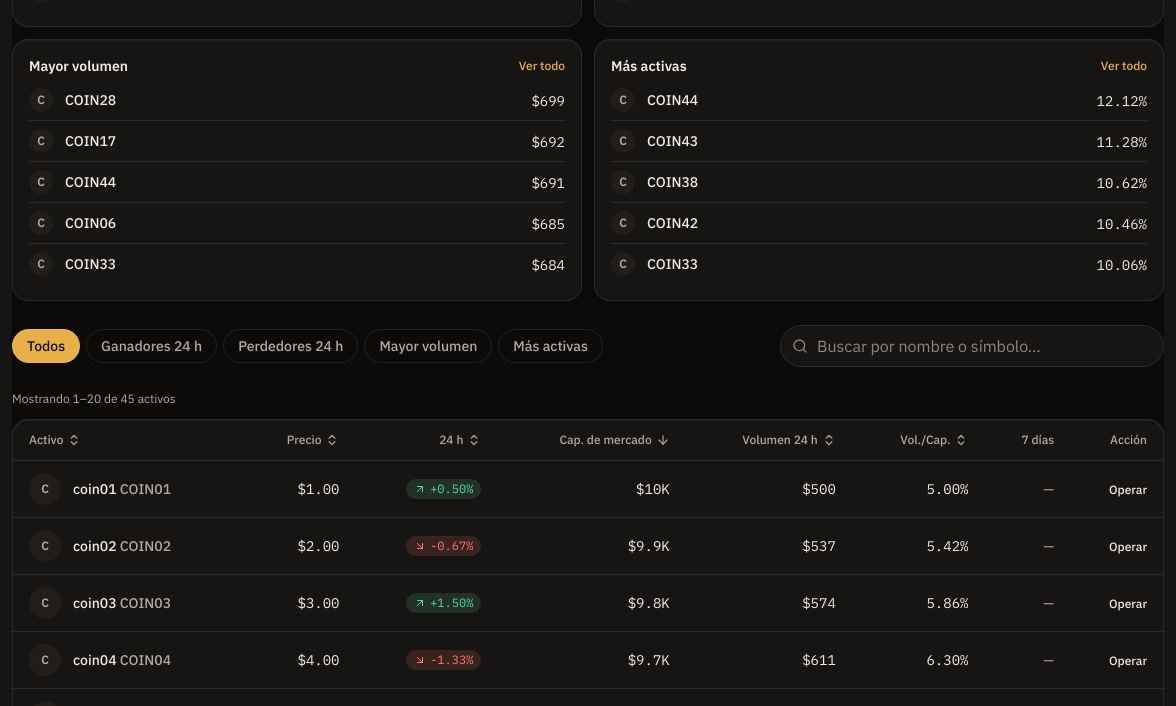
MarketExplorer: views › switching views filters, applies its sort, and marks the current view
(page scrolled)
Click the link "Ganadores 24 h": (152,346) [86,329,217,363]
(page scrolled)
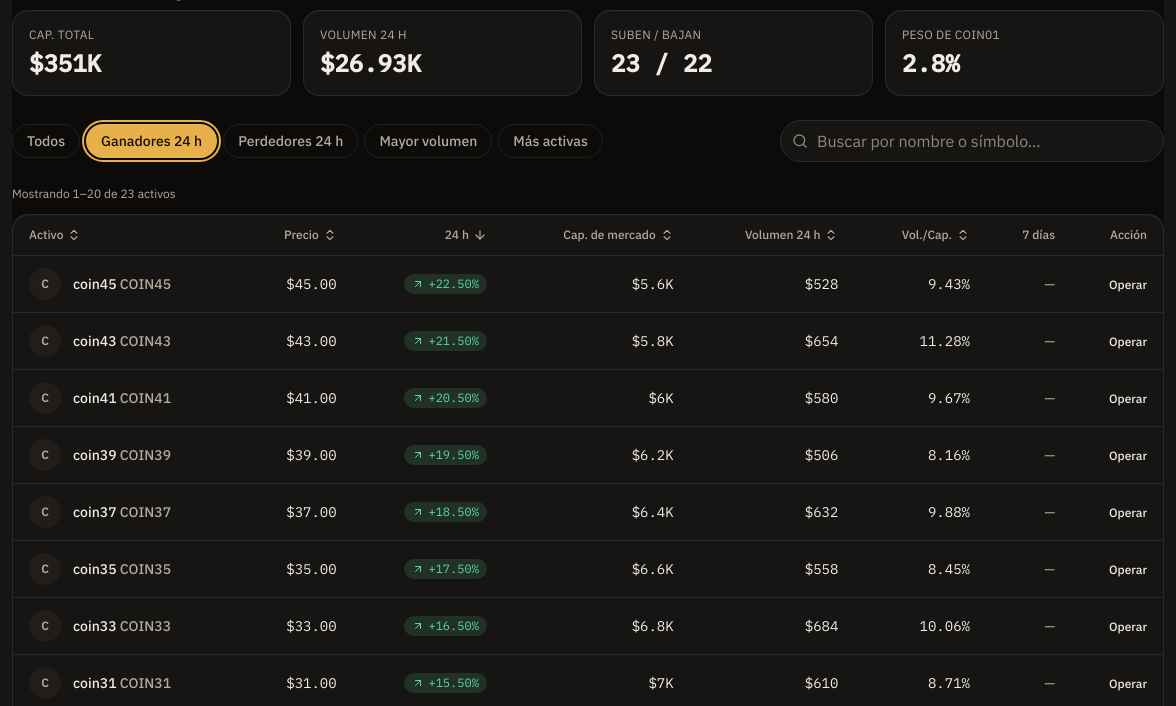
expect the message reads "Mostrando 1–20 de 23 activos": met, box [12,186,176,201]
